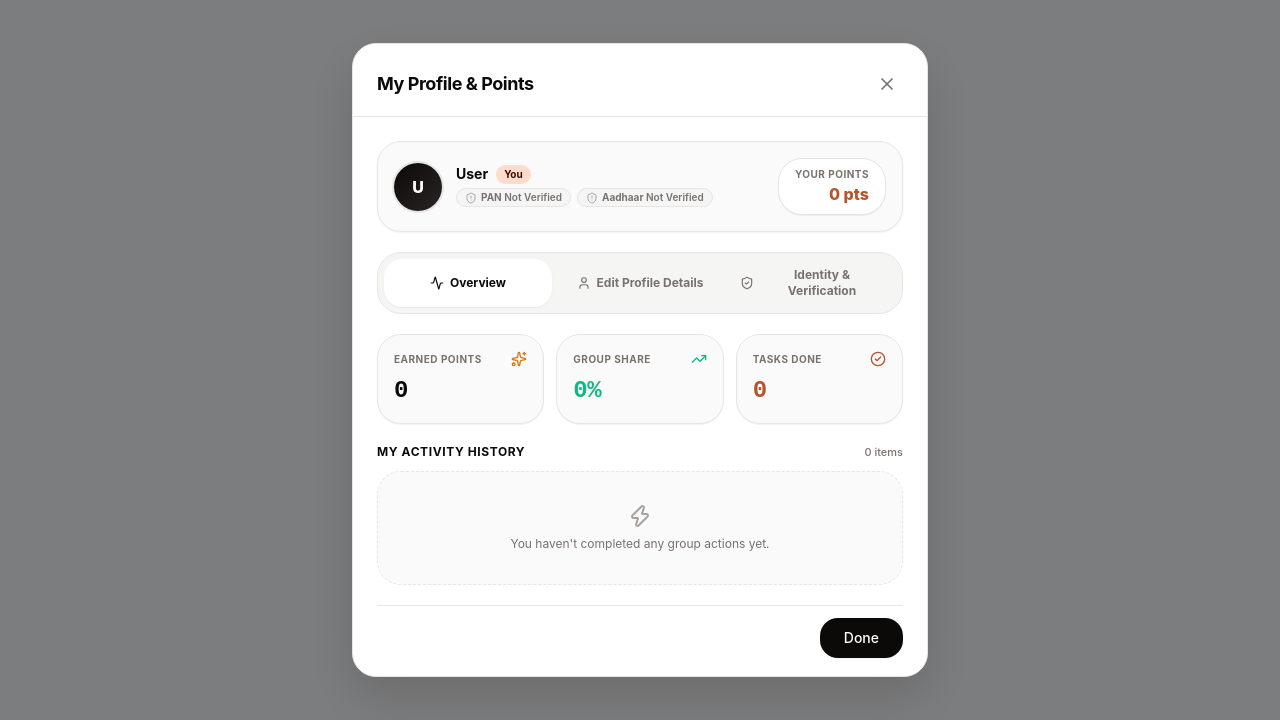
Test: ProfileModal Component › renders modal header and shows locked bonus when user is unverified
Expected: the text "Edit Profile Details" is shown, left=596, top=275, right=703, bottom=291
Click the button "Edit Profile Details" at point(640, 283), box left=556, top=259, right=724, bottom=307
(page scrolled)
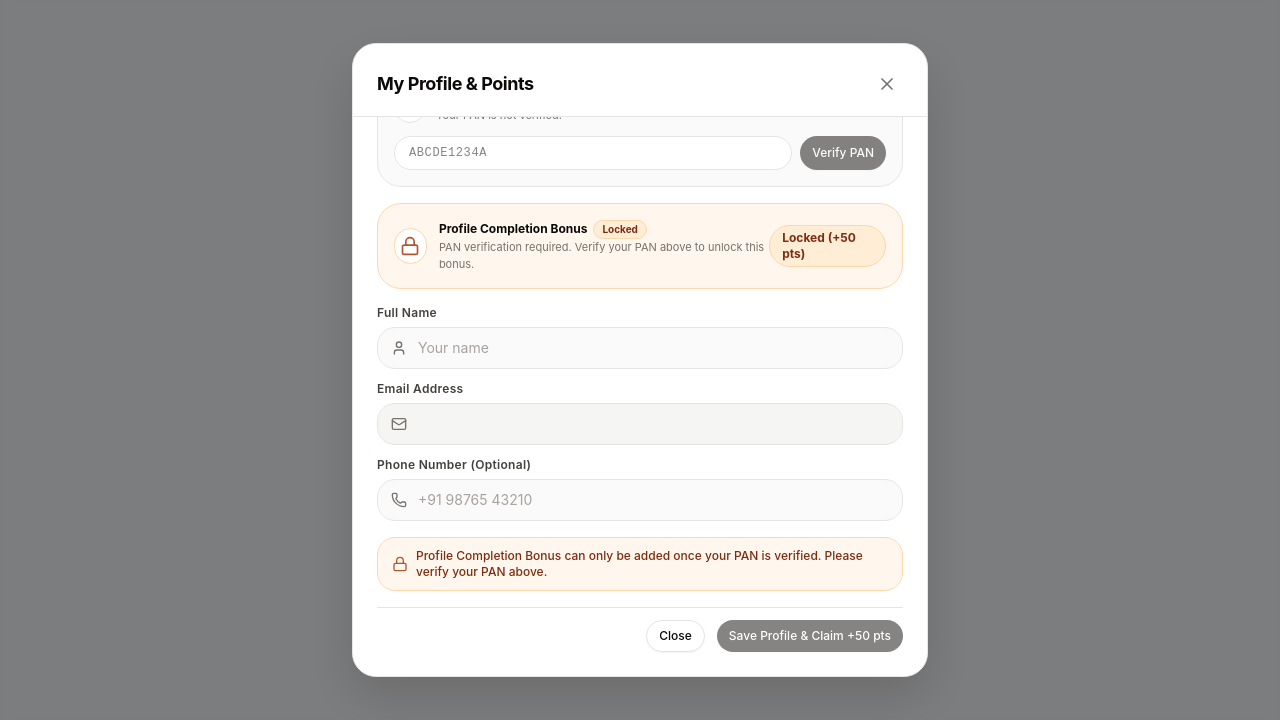
Expected: the heading "Profile Completion Bonus Locked" is shown, left=439, top=220, right=647, bottom=239
Expected: the text "Locked (+50 pts)" is shown, left=769, top=225, right=886, bottom=267
Expected: the text "Profile Completion Bonus can only be added once your PAN is verified" is shown, left=416, top=548, right=863, bottom=579
